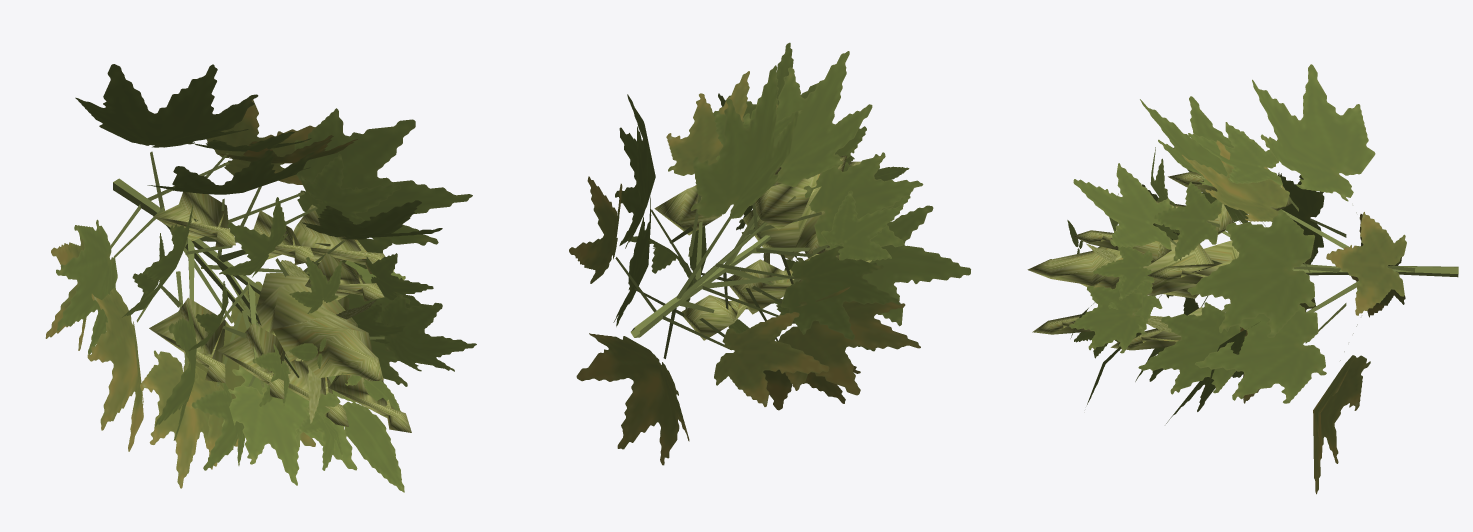
File: p_kush_ripe_c1_cards.obj
3 renders of one model, left to right at view 1: azimuth 30°, elevation 25°; view 2: azimuth 150°, elevation 25°; view 3: azimuth 270°, elevation 25°, orthographic. The views are drawn at different scales.
Size of the model in its own units: 1.27 by 1.51 by 1.34.
Materials: 1 (1 with a texture image).
